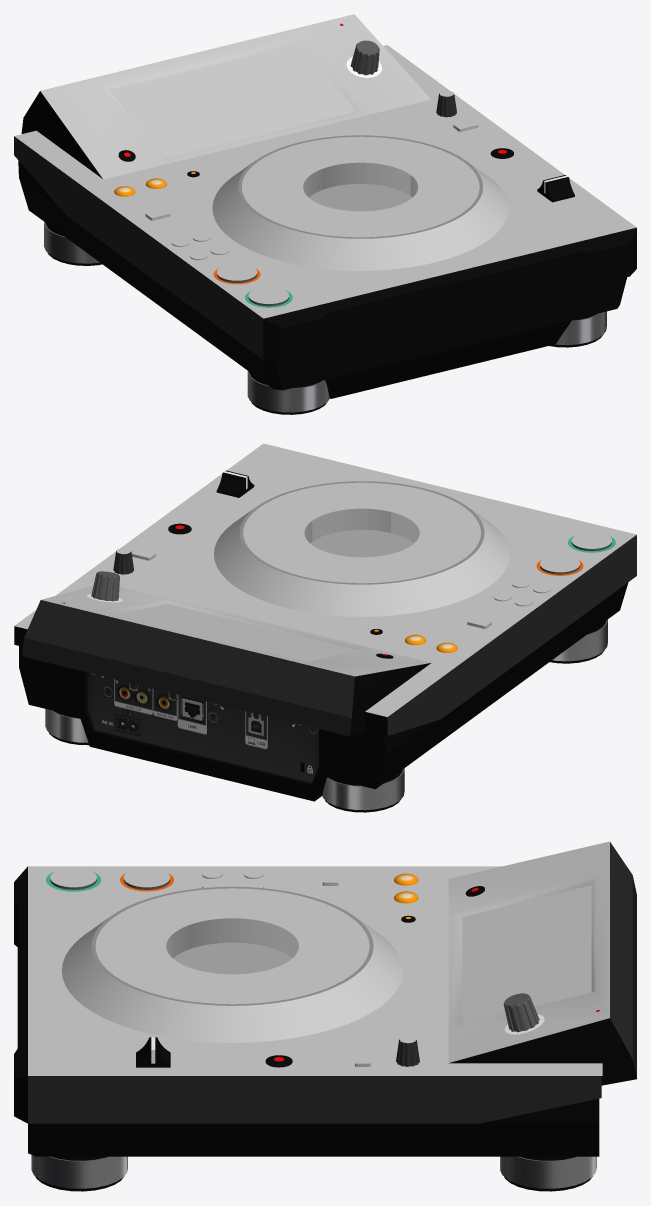
File: Player.FBX
3 renders of one model, top to bottom at view 1: azimuth 30°, elevation 25°; view 2: azimuth 150°, elevation 25°; view 3: azimuth 270°, elevation 25°, orthographic. The views are drawn at different scales.
Parts seen in each view (by area): view 1: White, Shatle, Object002, Shatle004, Shatle003, Glow_Ring, Pitch, Button_018, Button_022; view 2: White, Shatle, Object002, Shatle004, Shatle003, Glow_Ring, Pitch, Button_018, Button_022; view 3: White, Shatle, Object002, Shatle004, Shatle003, Glow_Ring, Button_018, Button_022, Pitch, Vinyl Speed.
Part boxes in pixels (left/top/right/bottom): White: left=14, top=14, right=636, bottom=414; Shatle: left=212, top=136, right=508, bottom=270; Object002: left=108, top=43, right=355, bottom=157; Shatle004: left=303, top=162, right=418, bottom=211; Shatle003: left=309, top=184, right=411, bottom=210; Glow_Ring: left=238, top=135, right=482, bottom=238; Pitch: left=537, top=175, right=574, bottom=202; Button_018: left=217, top=263, right=257, bottom=282; Button_022: left=248, top=287, right=288, bottom=306; White: left=14, top=443, right=636, bottom=812; Shatle: left=214, top=482, right=510, bottom=616; Object002: left=115, top=603, right=356, bottom=662; Shatle004: left=304, top=508, right=419, bottom=557; Shatle003: left=310, top=530, right=413, bottom=556; Glow_Ring: left=239, top=481, right=484, bottom=584; Pitch: left=216, top=470, right=254, bottom=497; Button_018: left=540, top=555, right=580, bottom=574; Button_022: left=571, top=532, right=611, bottom=551; White: left=14, top=841, right=636, bottom=1191; Shatle: left=61, top=888, right=403, bottom=1042; Object002: left=462, top=885, right=591, bottom=1023; Shatle004: left=166, top=918, right=298, bottom=974; Shatle003: left=173, top=943, right=291, bottom=973; Glow_Ring: left=91, top=886, right=373, bottom=1005; Button_018: left=123, top=867, right=170, bottom=889; Button_022: left=50, top=867, right=96, bottom=889; Pitch: left=136, top=1037, right=170, bottom=1067; Vinyl Speed: left=396, top=1036, right=419, bottom=1066.
Size of the model in its own units: 0.3037 by 0.3809 by 0.1158.
